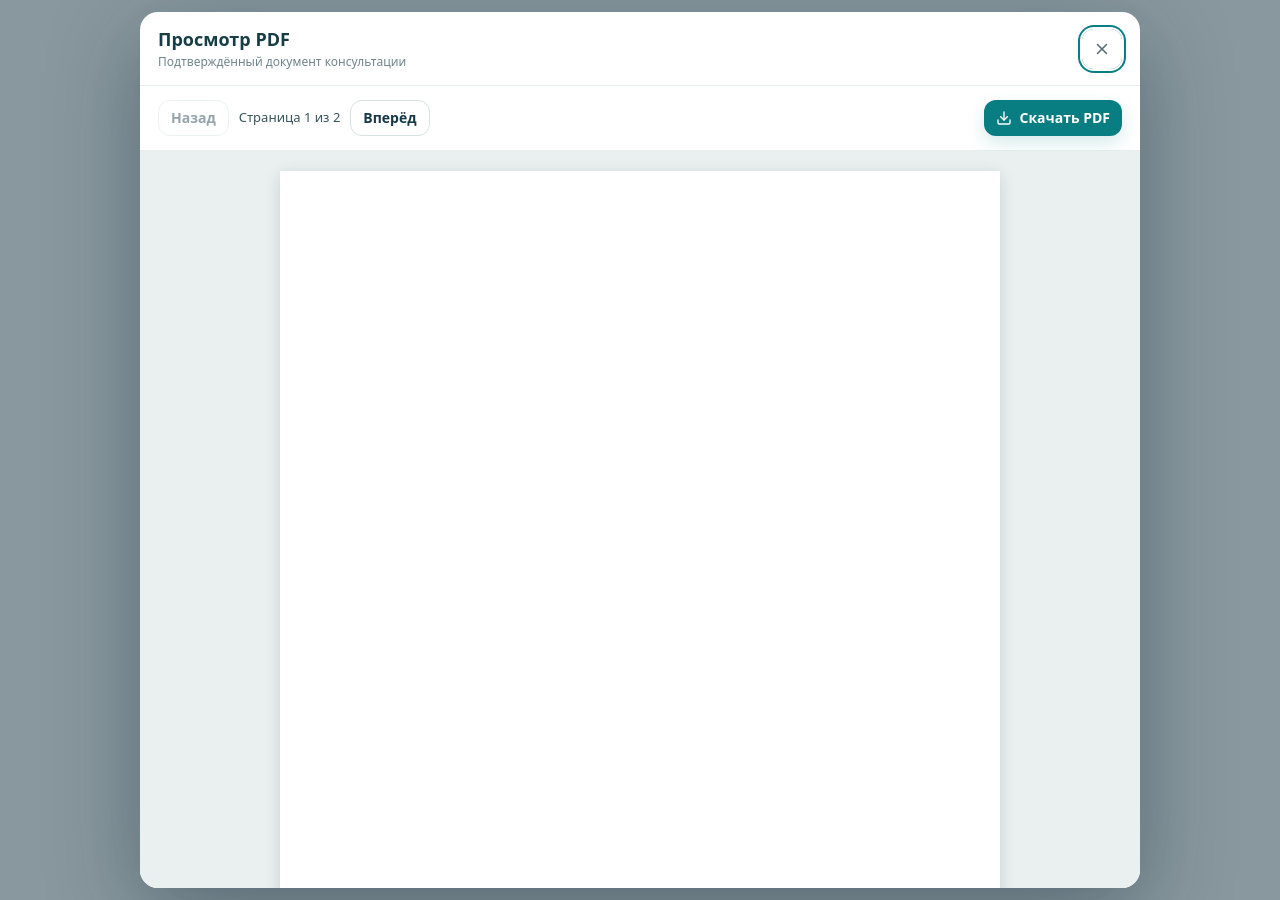
Test case: authenticated PDF preview › loads once per opening and navigates rendered pages
The width and height of the screenshot is (1280, 900).
Expected: the text "Страница 1 из 2" is shown, [239,108,340,128]
Expected: the button with aria-label "Предыдущая страница" is disabled, [158,100,229,136]
Click the button with aria-label "Следующая страница".
click(390, 118)  # box [350,100,430,136]
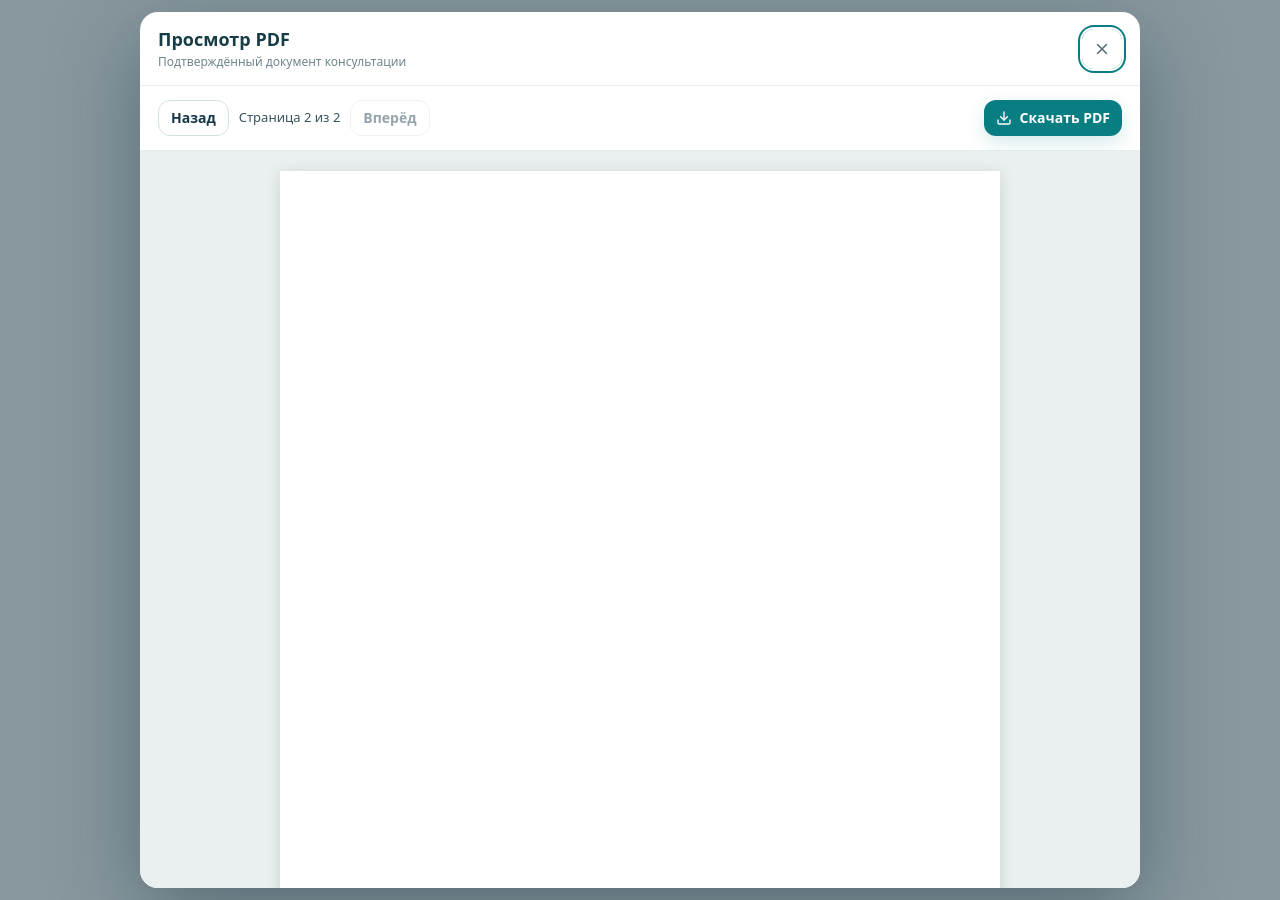
Result: the text "Страница 2 из 2" is shown at [239,108,340,128]
Result: the button with aria-label "Следующая страница" is disabled at [350,100,430,136]
